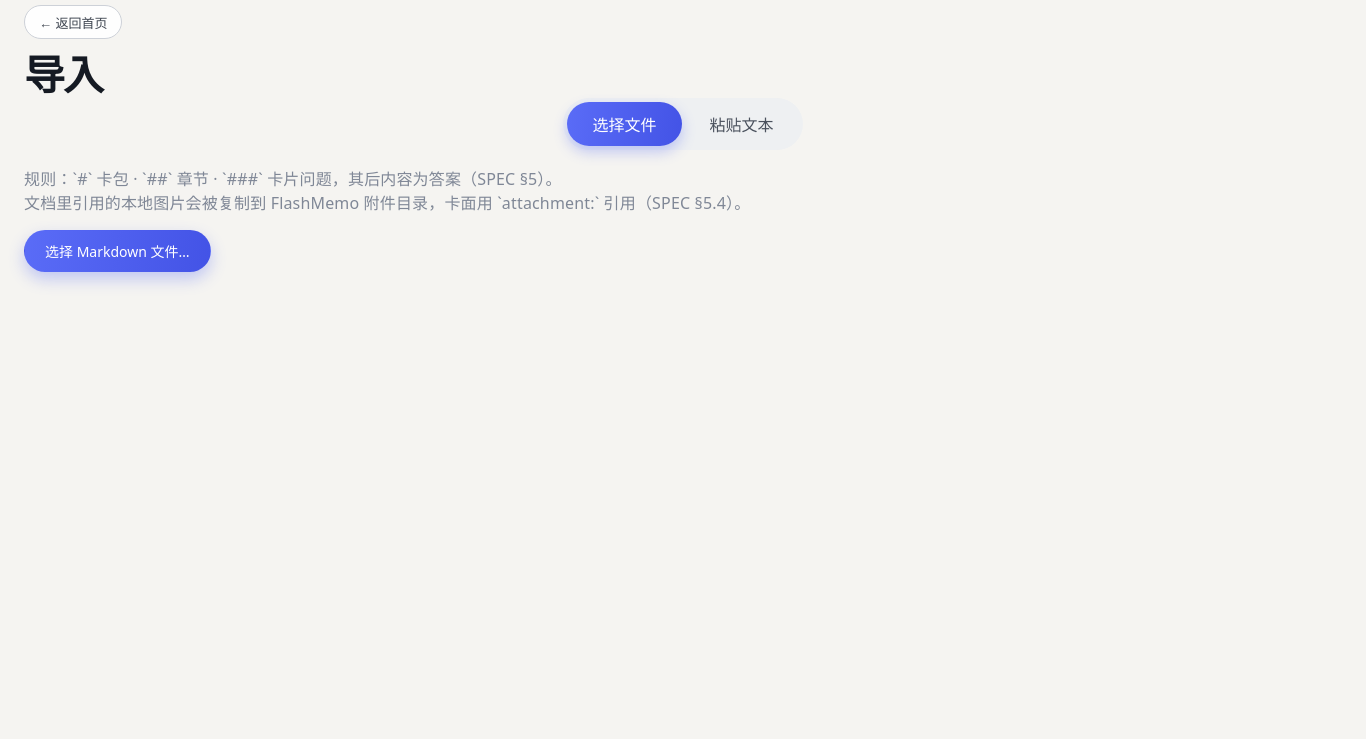
Test: 导入页的粘贴模式（SPEC §5.5） › 没粘贴内容时导入按钮不可点
Click the button "粘贴文本".
click(742, 124)  # box [684,102,798,146]
(page scrolled)
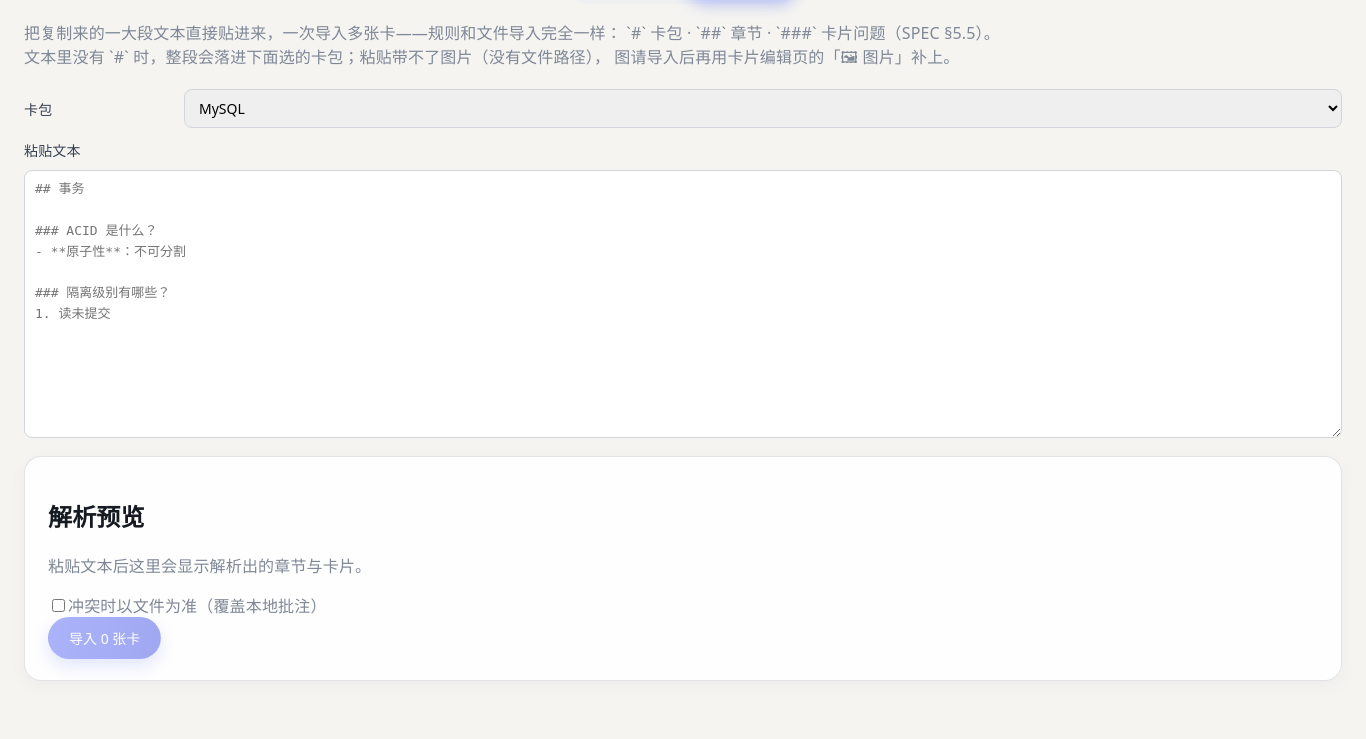
Expected: the button "导入 0 张卡" is disabled, [48,616,161,658]
